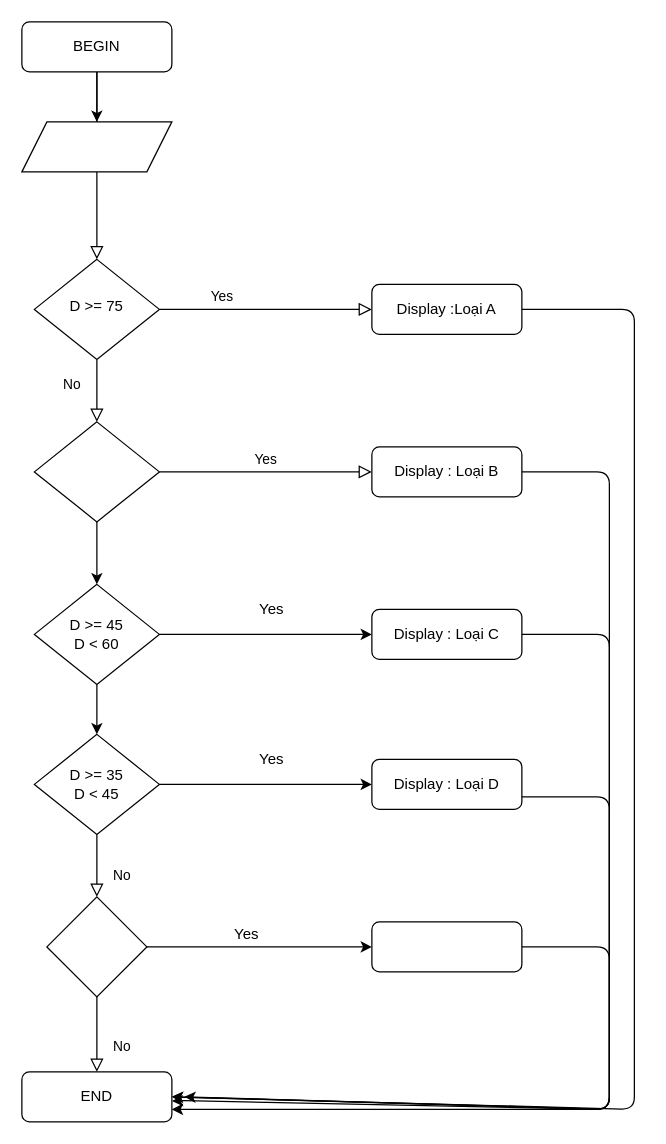
Some shapes in this 666 by 1144 pixel diagram are drawn without their labels. Each missing label, with the box of its shape:
D <= 60 D < 75: (33, 421, 159, 522)
D<=35: (46, 896, 147, 997)
Display : Loại E: (371, 921, 522, 972)
input D: (21, 121, 172, 172)
